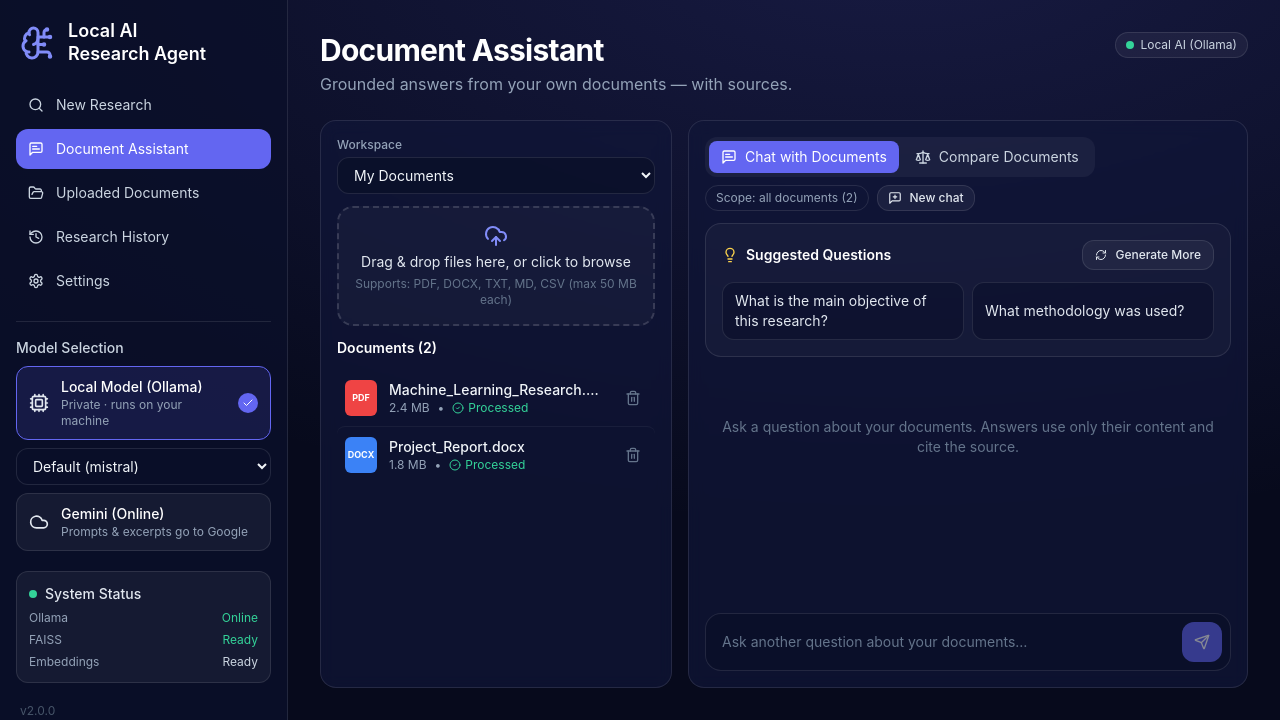
Test: Document Assistant › clicking a suggested question asks it and renders a streamed, cited answer
Click the button "What methodology was used?" at (1093, 311), box [972,282,1214,340]
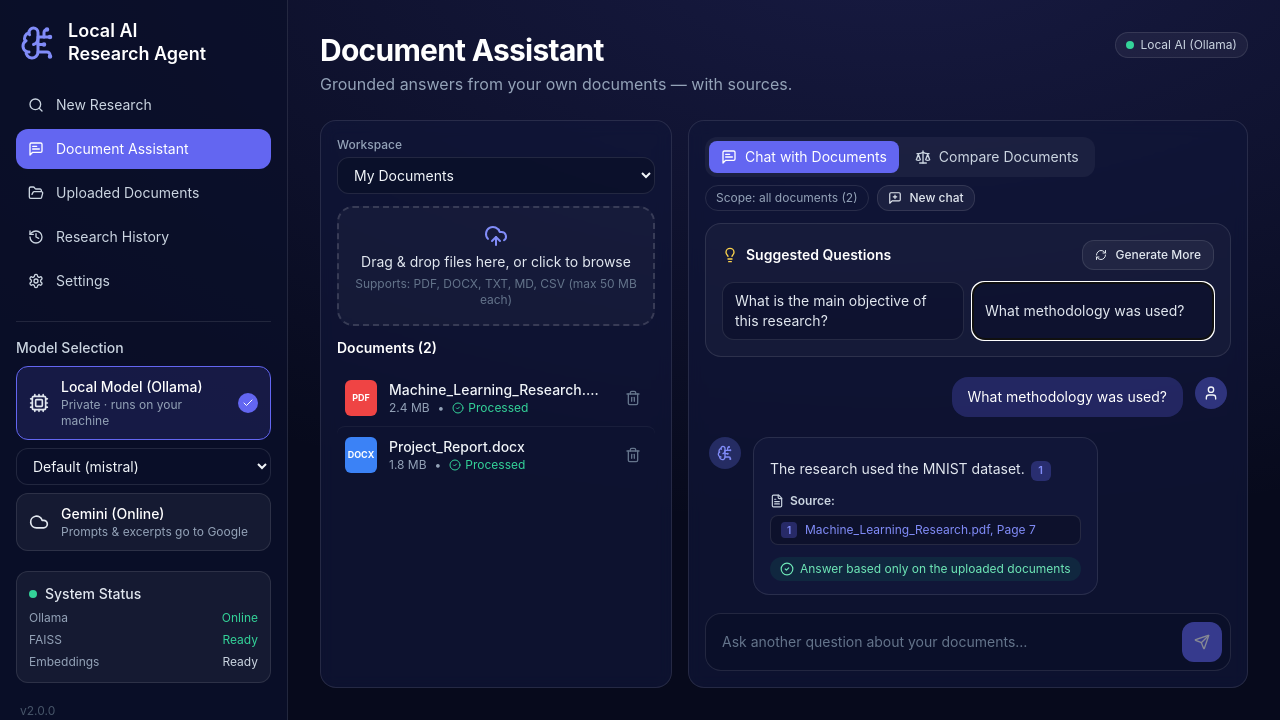
Result: the text "The research used the MNIST dataset. 1" is shown at [770,458,1081,481]
Result: the text "Machine_Learning_Research.pdf, Page 7" is shown at [805,522,1036,538]
Result: the text "Answer based only on the uploaded documents" is shown at [770,557,1081,581]
